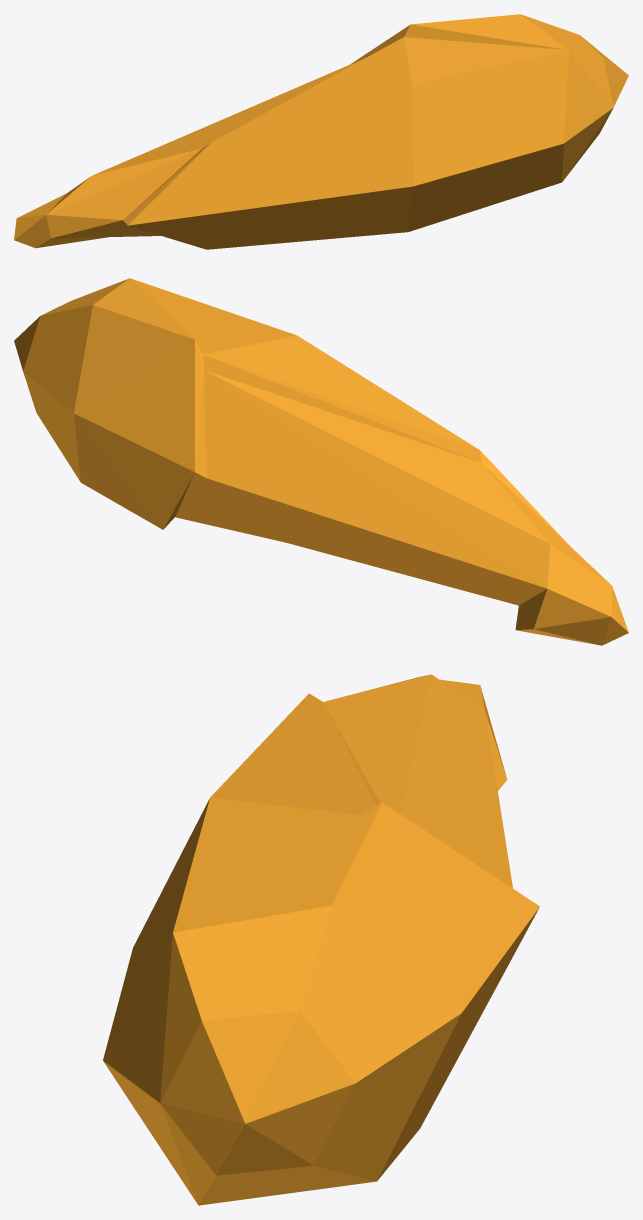
The model's file is SM_Corn_C.fbx.
3 renders of one model, top to bottom at view 1: azimuth 30°, elevation 25°; view 2: azimuth 150°, elevation 25°; view 3: azimuth 270°, elevation 25°, orthographic. The views are drawn at different scales.
Parts seen in each view (by area): view 1: corn-c; view 2: corn-c; view 3: corn-c.
Boxes of the visible parts, x1,y1,x2,y2 form: corn-c: (14, 14, 628, 249); corn-c: (14, 278, 628, 645); corn-c: (103, 674, 539, 1205).
Size of the model in its own units: 0.3366 by 0.0984 by 0.1134.
